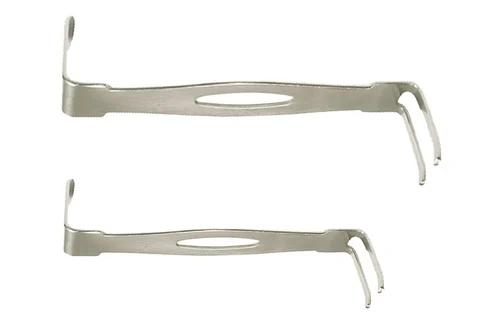Czerney Retractor: (56, 12, 444, 188), (52, 178, 390, 312)
